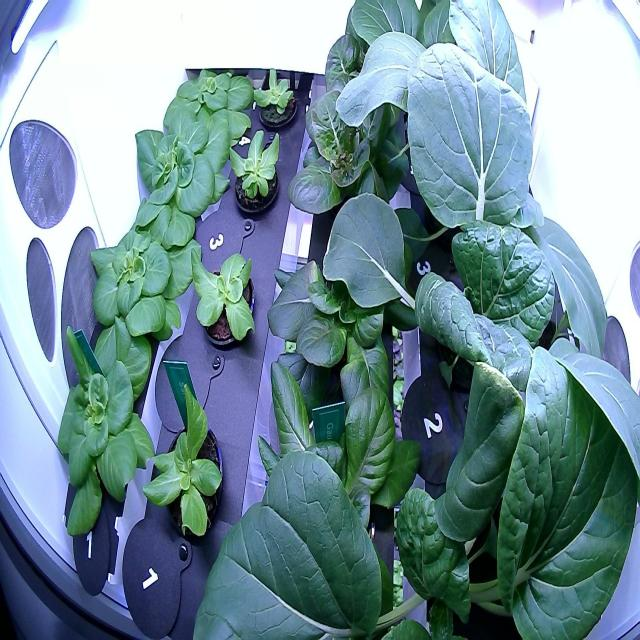young: (260, 193, 429, 458), (281, 58, 426, 232), (50, 311, 155, 548), (83, 202, 208, 374), (113, 98, 239, 254), (139, 378, 236, 562), (183, 231, 266, 370), (158, 51, 258, 156), (223, 119, 291, 222), (250, 58, 306, 135)
